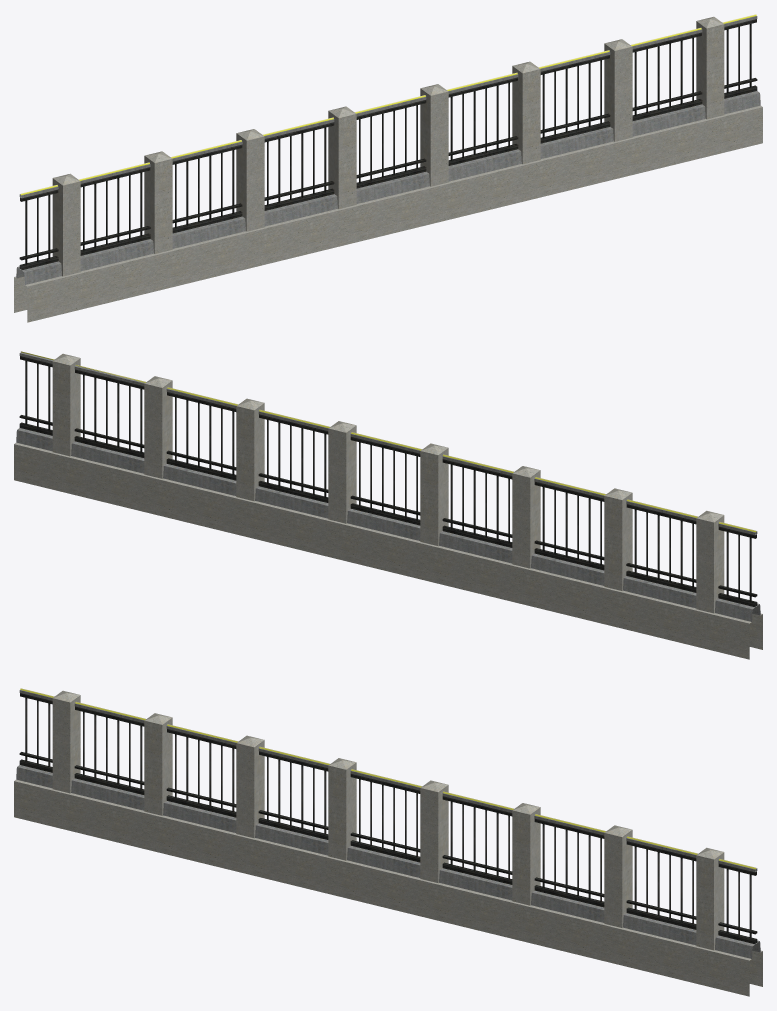
Rendered from thm_corl_imprv_wall_4x32_s02_l0.fbx.
3 views of the same model, one above another, from view 1: azimuth 30°, elevation 25°; view 2: azimuth 150°, elevation 25°; view 3: azimuth 330°, elevation 25° (orthographic).
Visible parts, largest first — view 1: mesh_node; view 2: mesh_node; view 3: mesh_node.
Boxes of the visible parts, x1,y1,x2,y2 form: mesh_node: (14, 14, 762, 322); mesh_node: (14, 351, 762, 659); mesh_node: (14, 688, 762, 996).
Size of the model in its own units: 32 by 5.43 by 1.
